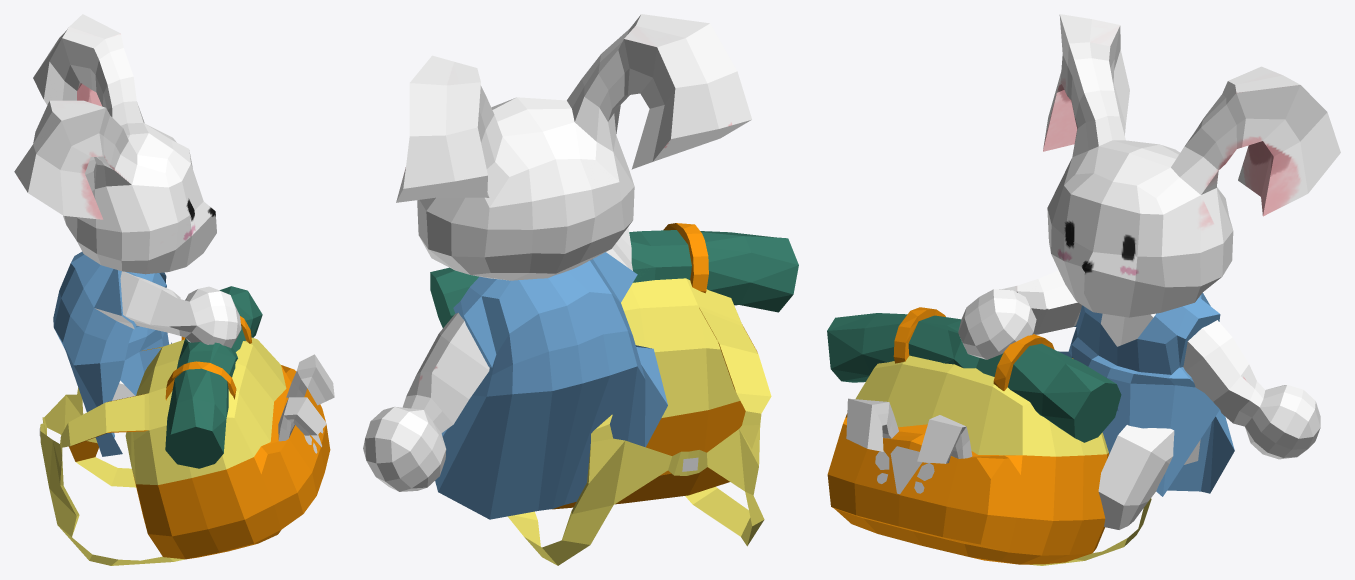
The model's file is lapin.glb.
3 renders of one model, left to right at view 1: azimuth 30°, elevation 25°; view 2: azimuth 150°, elevation 25°; view 3: azimuth 270°, elevation 25°, orthographic. The views are drawn at different scales.
Parts seen in each view (by area): view 1: BackPack; view 2: BackPack; view 3: BackPack.
Part boxes in pixels (left/top/right/bottom): BackPack: left=14, top=14, right=334, bottom=565; BackPack: left=363, top=14, right=798, bottom=565; BackPack: left=827, top=14, right=1340, bottom=565.
Size of the model in its own units: 0.7174 by 1.1 by 1.05.
Materials: 6 (1 with a texture image).
